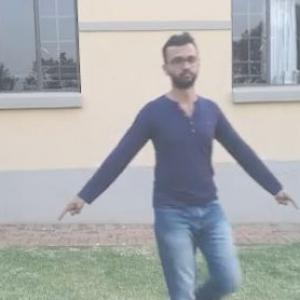land: (102, 61, 278, 299)
